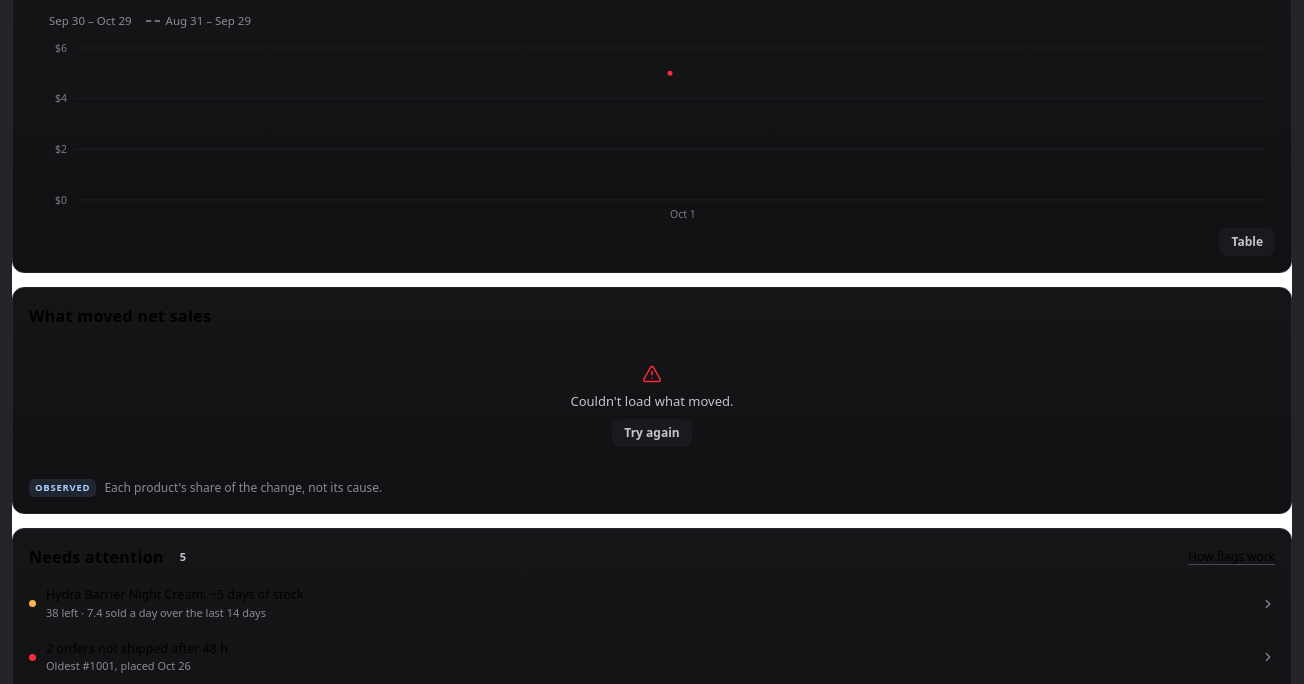
Overview assembly (SA-79) › a 502 from contributions shows that panel's error with a retry; the others render
(page scrolled)
Check: the heading "What moved net sales" is shown, box [29, 304, 211, 328]
Check: the heading "Needs attention" is shown, box [29, 545, 164, 569]
What coordinates should you click on to do the following:
click the button "Try again"
I would click on:
 (652, 433)
Its box is [612, 419, 692, 447].
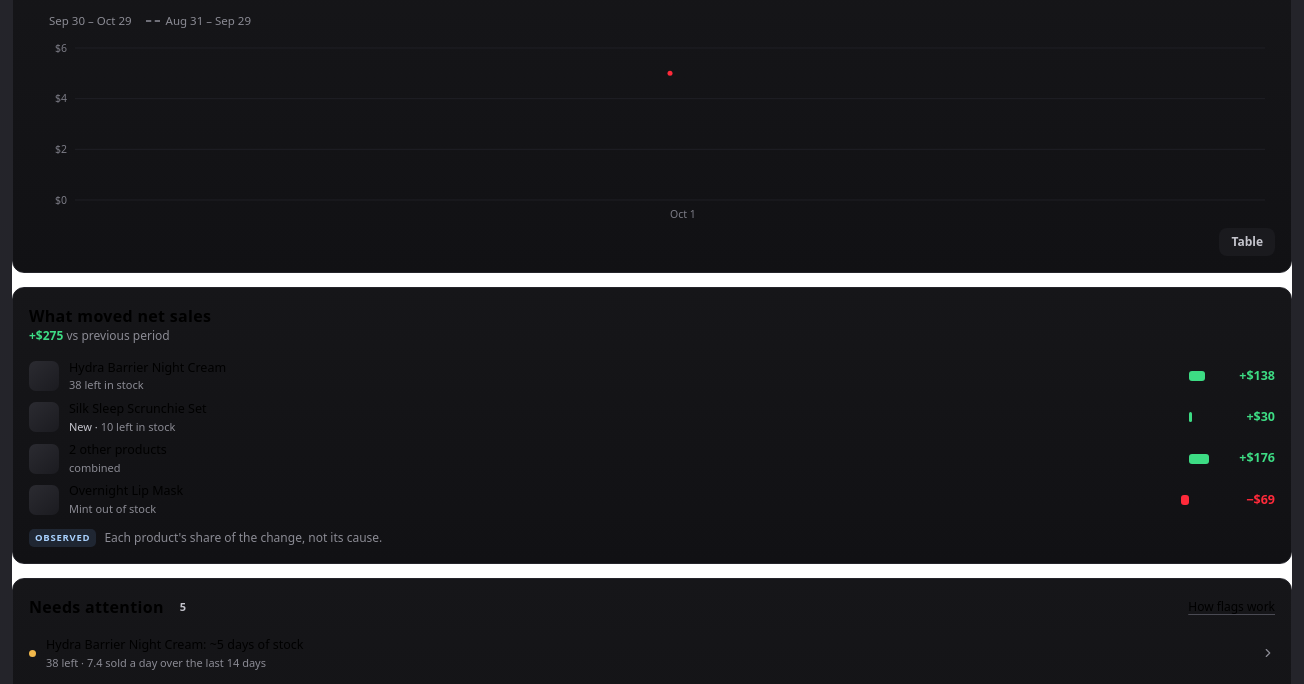
Check: the text "Couldn't load what moved." is gone
